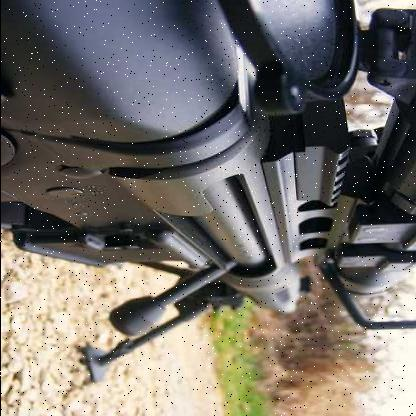rifle: (1, 0, 415, 338)
